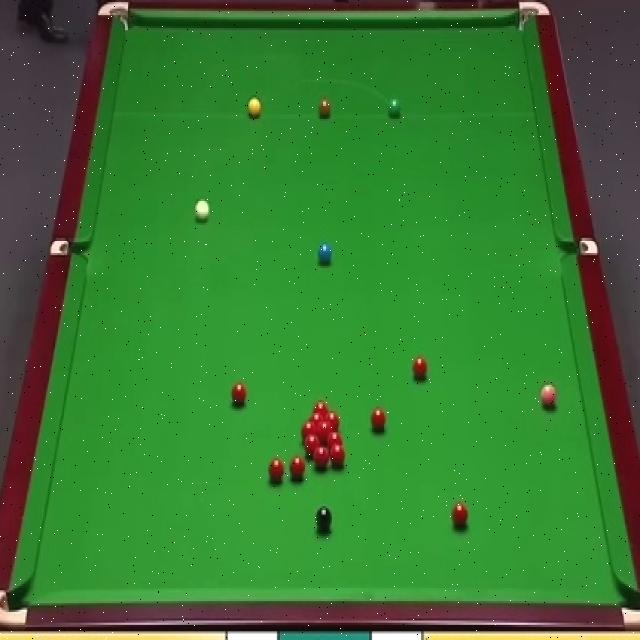black-ball: (316, 505, 332, 533)
blue-ball: (317, 242, 332, 262)
brown-ball: (317, 100, 332, 117)
green-ball: (387, 95, 403, 121)
pink-ball: (540, 384, 556, 409)
red-ball: (369, 406, 387, 434), (288, 456, 304, 484), (269, 454, 284, 483), (452, 502, 468, 528), (318, 420, 334, 444), (314, 446, 331, 468), (232, 382, 246, 408), (304, 433, 318, 457), (413, 356, 427, 380), (330, 445, 344, 467), (300, 422, 317, 440), (324, 411, 339, 431), (327, 432, 343, 450), (308, 411, 326, 424), (313, 399, 330, 412)
white-ball: (196, 200, 209, 221)
yellow-ball: (247, 96, 259, 119)
